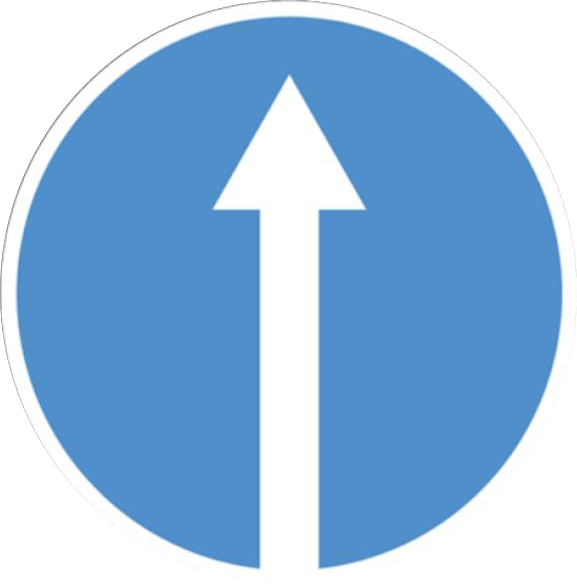move_forward: (21, 3, 559, 560)
